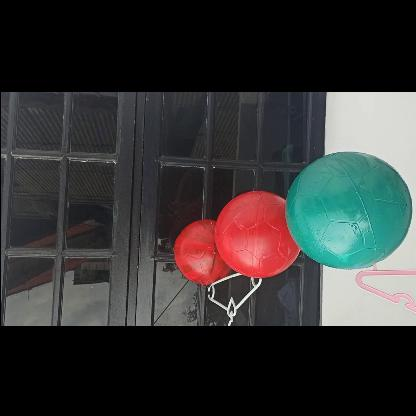green_ball: (286, 148, 408, 270)
